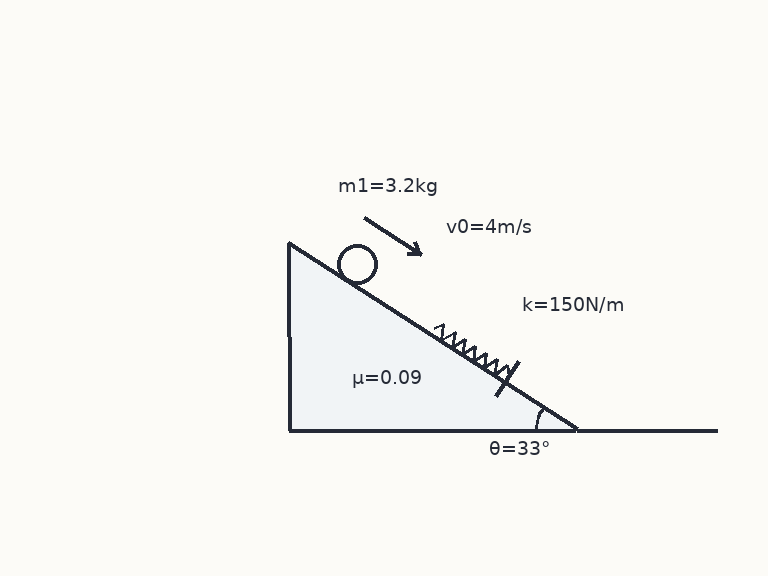ball: (335, 242, 379, 286)
ramp: (286, 241, 578, 432)
spring: (432, 323, 511, 378)
